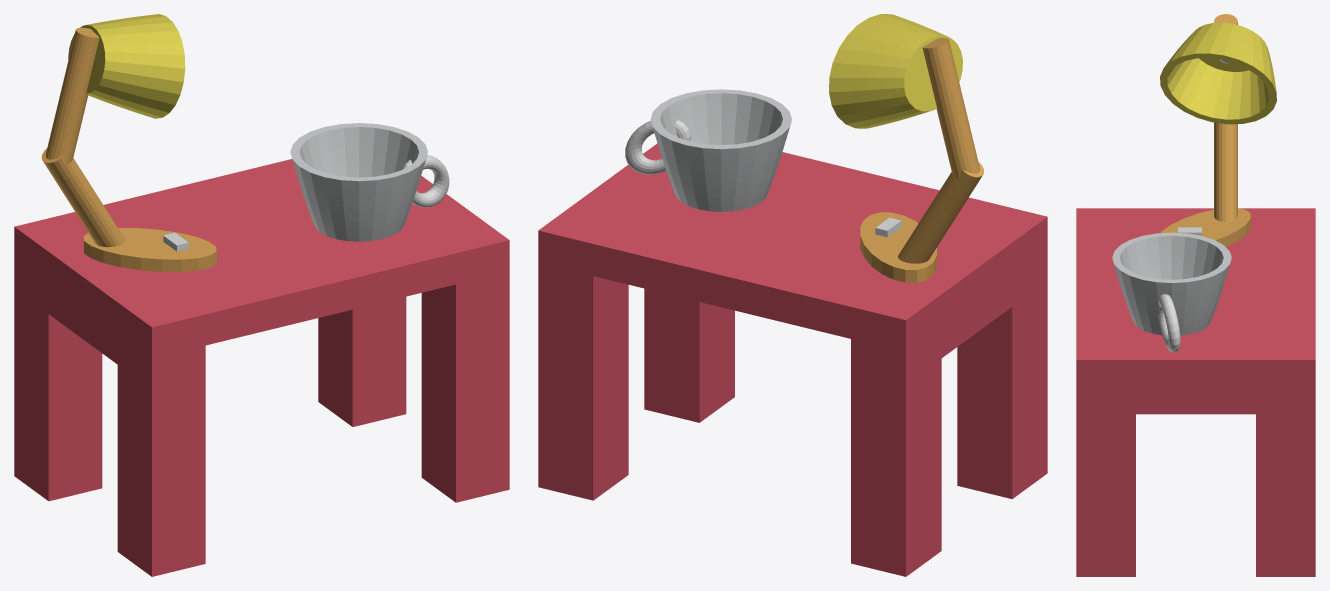
The model's file is Shiny Lappi-Inari.glb.
The picture shows the model from 3 angles, left to right: view 1: azimuth 30°, elevation 25°; view 2: azimuth 150°, elevation 25°; view 3: azimuth 270°, elevation 25°; orthographic projection. The views are drawn at different scales.
Parts seen in each view (by area): view 1: Mesh_Mesh_head_geo.001_lambert2SG.001; view 2: Mesh_Mesh_head_geo.001_lambert2SG.001; view 3: Mesh_Mesh_head_geo.001_lambert2SG.001.
Part boxes in pixels (x1,y1,x2,y2): Mesh_Mesh_head_geo.001_lambert2SG.001: [14, 14, 509, 576]; Mesh_Mesh_head_geo.001_lambert2SG.001: [538, 14, 1047, 576]; Mesh_Mesh_head_geo.001_lambert2SG.001: [1076, 14, 1315, 576].
Size of the model in its own units: 63.73 by 76.75 by 40.
